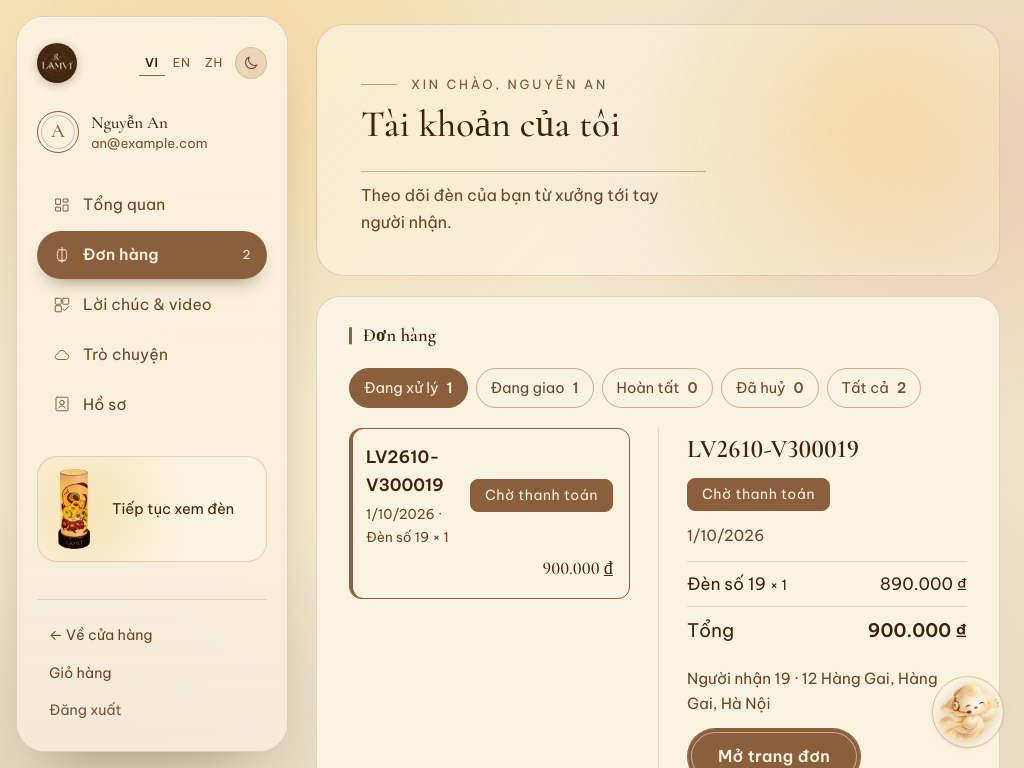
Test: Tab Đơn hàng — chip lọc và chi tiết › bấm chip lọc danh sách; nhóm rỗng hiện thông báo
Later steps or results of the test are not shown.
What coordinates should you click on to do the following:
click the button with class "chip" showing "Đang giao 1"
I would click on:
 (535, 388)
Its box is [476,368,594,408].
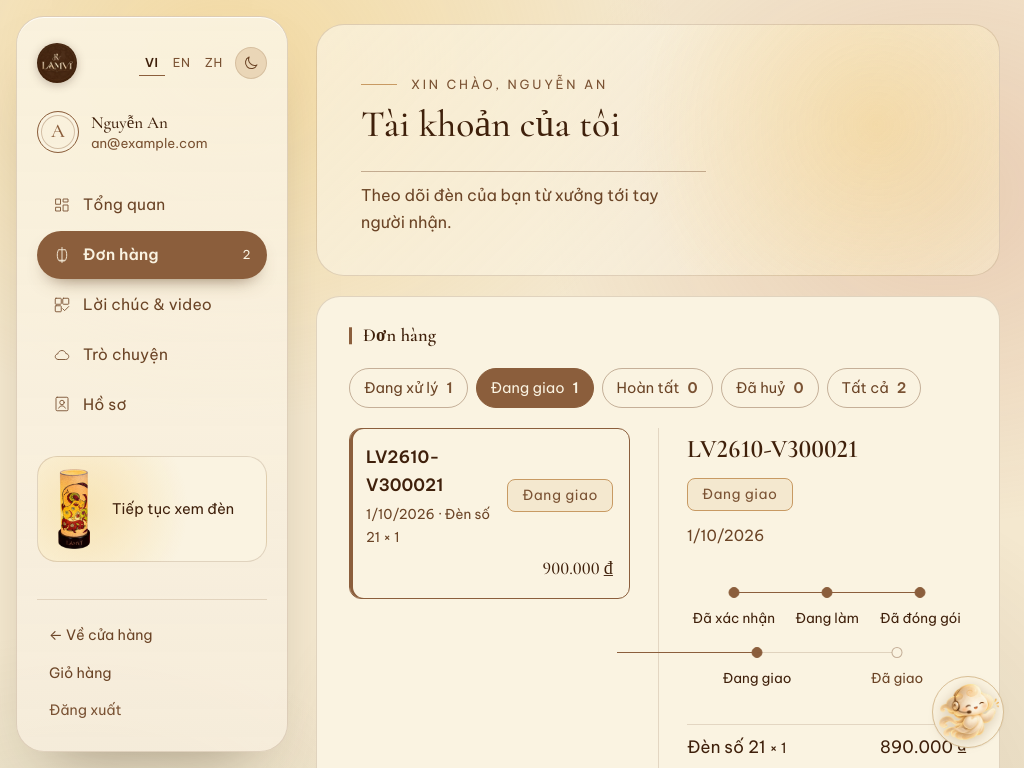
Check: the button with class "chip" is pressed, box [476,368,594,408]
Check: the button with class "chip" is not pressed, box [349,368,468,408]
What coordinates should you click on to do the following:
click the button with class "chip" showing "Hoàn tất 0"
I would click on:
 (657, 388)
Its box is [602,368,713,408].
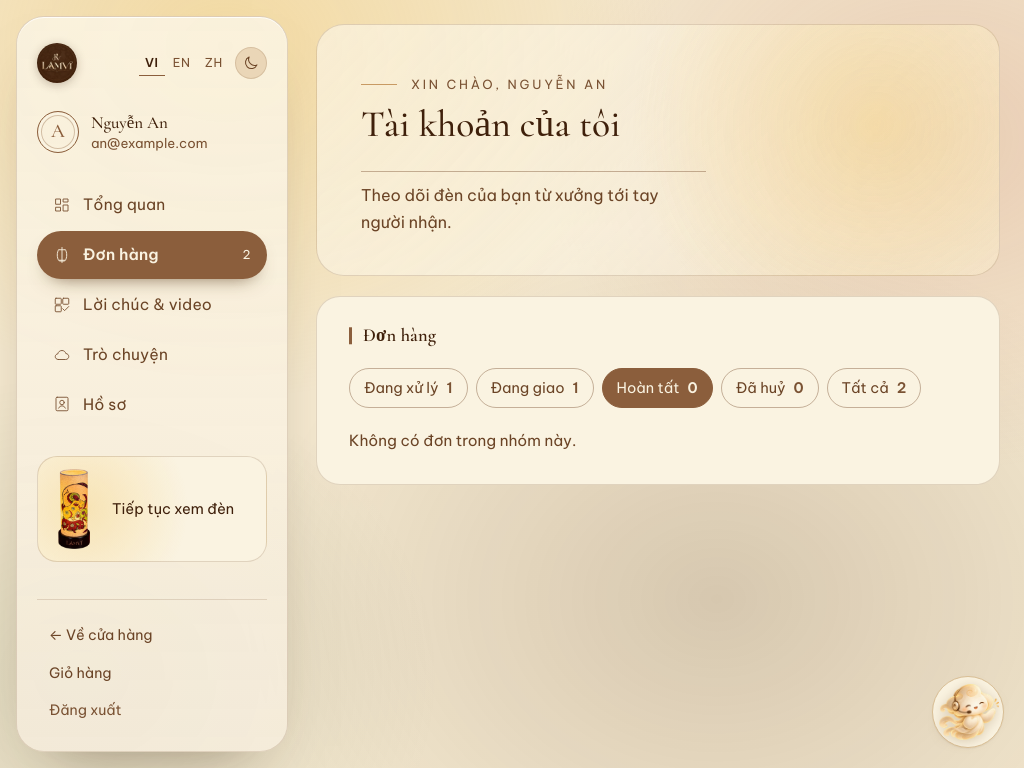
Check: the panel shows "Không có đơn trong nhóm này.", box [349,431,576,450]
